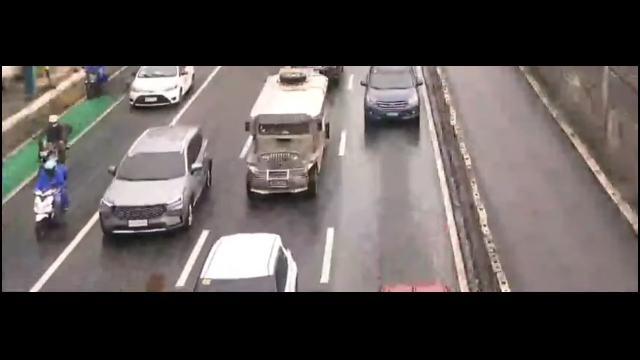car: (102, 124, 211, 233), (192, 229, 308, 292), (359, 68, 423, 125), (127, 65, 197, 112)
jeepney: (240, 67, 336, 209)
motorcycle: (33, 162, 68, 238), (36, 114, 72, 176), (79, 65, 105, 104)
